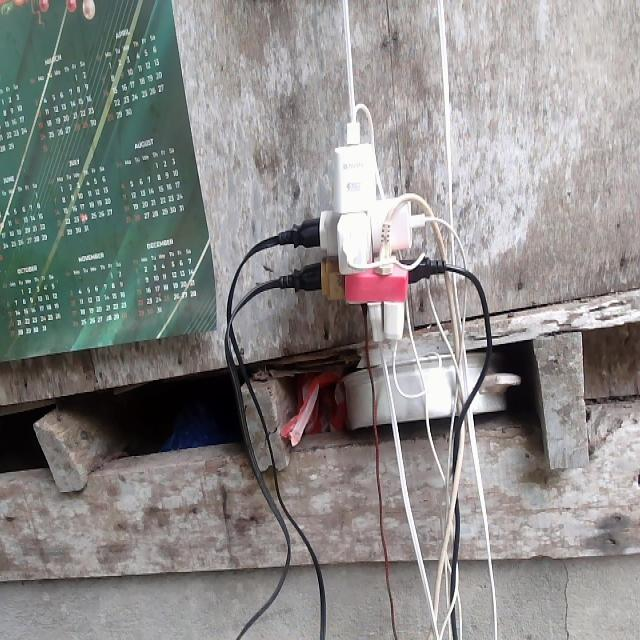-: (293, 119, 435, 348)
